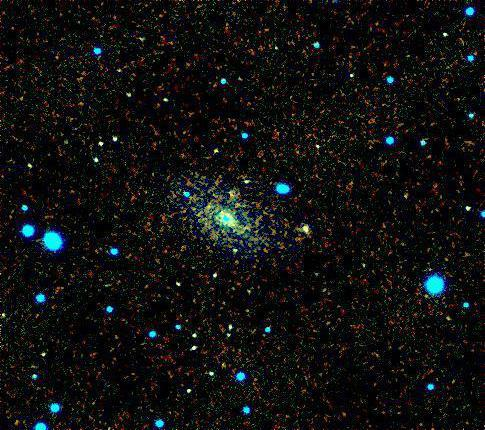star: (196, 191, 226, 221)
